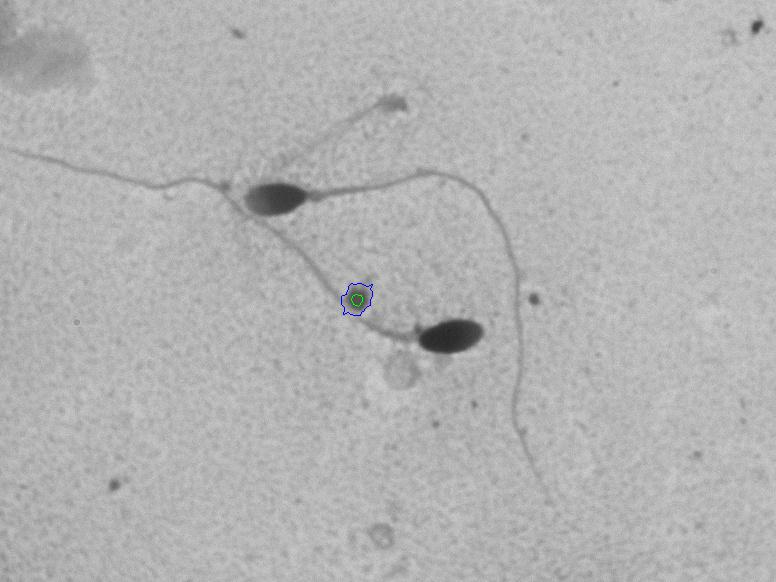Abnormal: (297, 292, 497, 392)
Normal: (231, 152, 595, 522)
